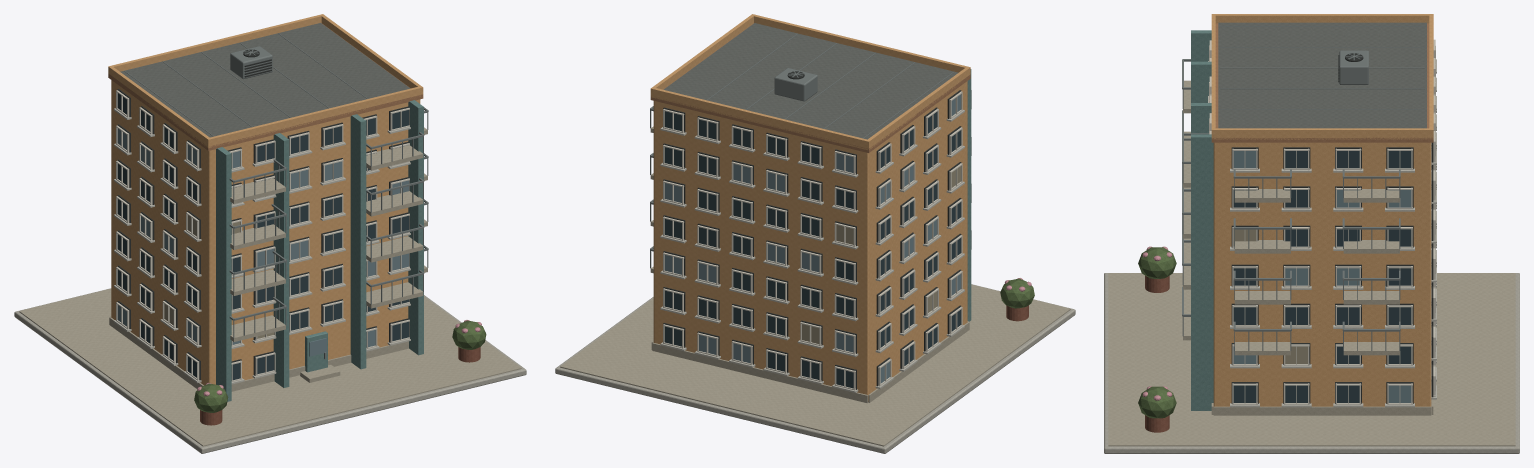
Rendered from EXP_PALAZZO_LOGGIAS.glb.
3 renders of one model, left to right at view 1: azimuth 30°, elevation 25°; view 2: azimuth 150°, elevation 25°; view 3: azimuth 270°, elevation 25°, orthographic. The views are drawn at different scales.
Parts seen in each view (by area): view 1: EXP_PALAZZO_LOGGIAS_Visual; view 2: EXP_PALAZZO_LOGGIAS_Visual; view 3: EXP_PALAZZO_LOGGIAS_Visual.
Part boxes in pixels (left/top/right/bottom): EXP_PALAZZO_LOGGIAS_Visual: left=14, top=14, right=526, bottom=453; EXP_PALAZZO_LOGGIAS_Visual: left=555, top=14, right=1075, bottom=453; EXP_PALAZZO_LOGGIAS_Visual: left=1104, top=14, right=1519, bottom=453.
Size of what is drawn, in the model's own units: 5.92 by 4.87 by 5.92.
16 materials, 10 textured.
